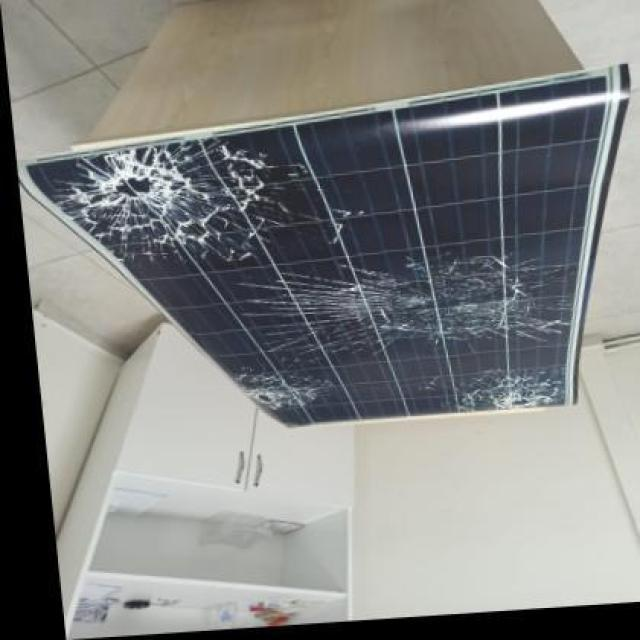cracked: (27, 62, 625, 426)
